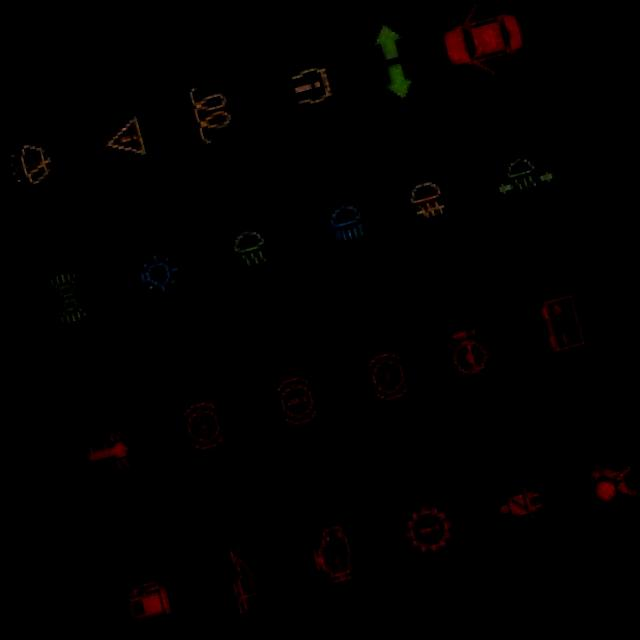kontrolka: (421, 0, 541, 95), (352, 0, 430, 121), (480, 134, 576, 222), (342, 332, 428, 430), (476, 466, 557, 542), (296, 512, 366, 598), (207, 532, 273, 623), (270, 43, 348, 118), (525, 282, 596, 364), (88, 94, 164, 170), (390, 492, 462, 572), (176, 74, 242, 154), (109, 571, 183, 640), (434, 316, 502, 390), (314, 184, 385, 254), (0, 123, 65, 197), (169, 388, 234, 460), (36, 260, 94, 340), (266, 364, 330, 434), (74, 422, 140, 487), (215, 217, 280, 283), (125, 242, 190, 308), (578, 450, 640, 513), (398, 167, 458, 228)
